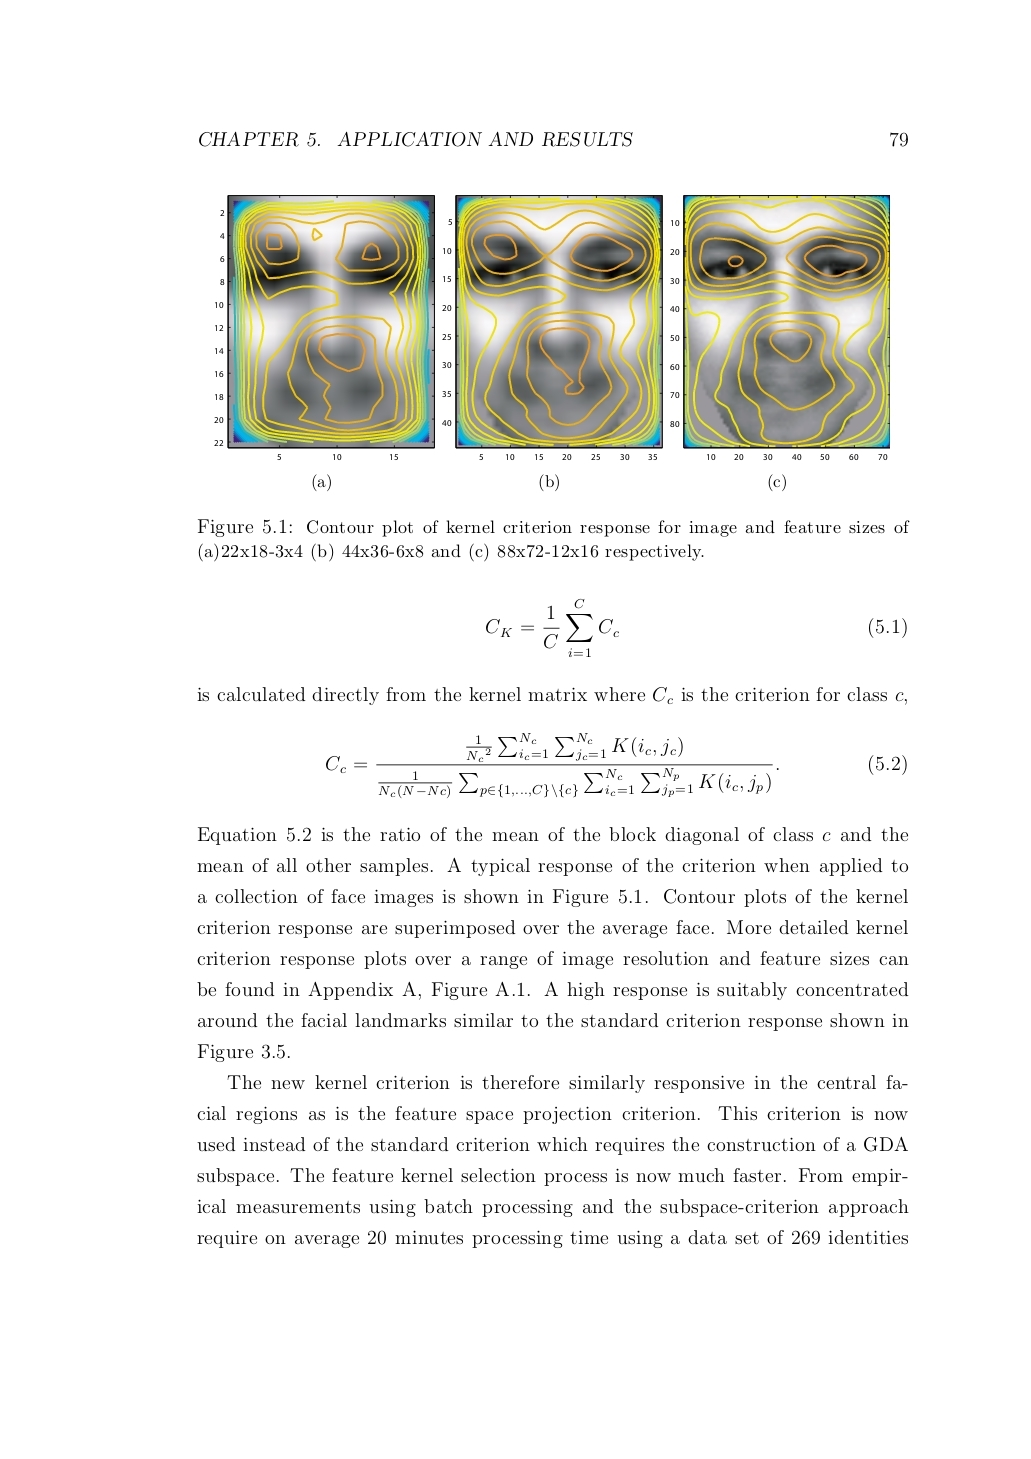figure: (214, 195, 434, 458), (442, 195, 662, 458), (669, 195, 889, 458)
formula: (326, 732, 906, 799), (486, 597, 906, 657)
